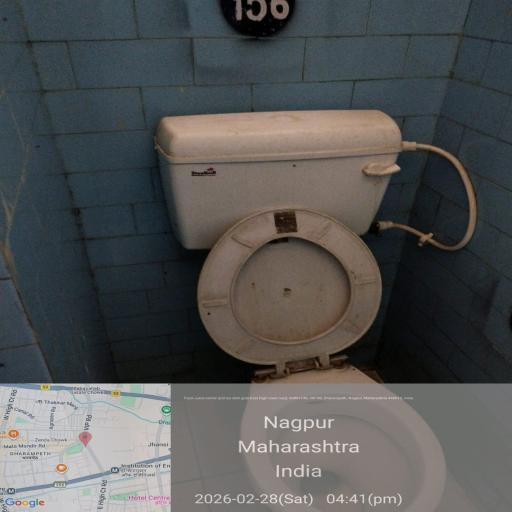dirty_floor: (44, 13, 460, 162)
dirty_western: (206, 221, 480, 512)
